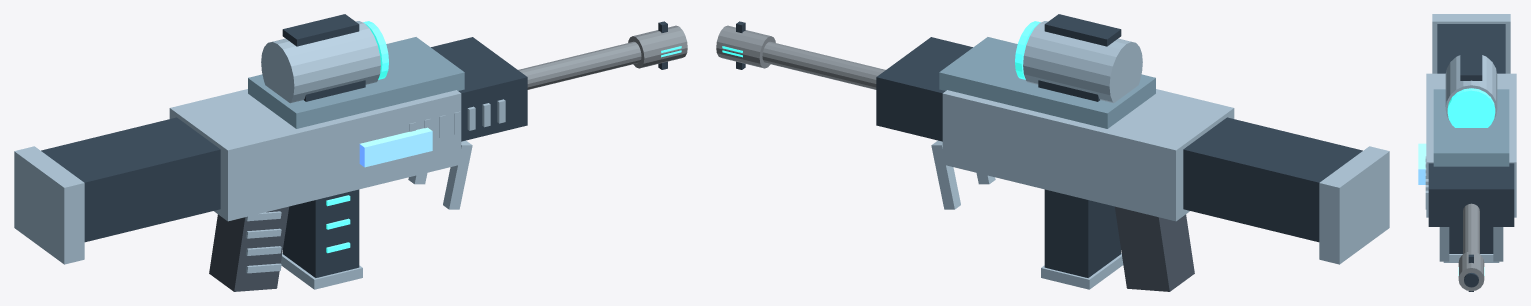
Rendered from dmr.glb.
3 views of the same model, side by side, from view 1: azimuth 30°, elevation 25°; view 2: azimuth 150°, elevation 25°; view 3: azimuth 270°, elevation 25° (orthographic). The views are drawn at different scales.
Parts seen in each view (by area): view 1: DMR_Receiver, DMR_Stock, DMR_Receiver_Cover, Stock_Plate, DMR_Optic_tube, Precision_Handguard, MAGAZINE, DMR_Grip, Precision_Barrel, Receiver_Energy, Precision_Muzzle, DMR_Optic_rail (+4 smaller); view 2: DMR_Receiver, DMR_Stock, DMR_Receiver_Cover, Stock_Plate, DMR_Optic_tube, Precision_Handguard, MAGAZINE, DMR_Grip, Precision_Barrel, Precision_Muzzle, DMR_Optic_rail, Bipod_Left (+3 smaller); view 3: Precision_Handguard, DMR_Receiver_Cover, DMR_Stock, DMR_Receiver, DMR_Optic_ring, DMR_Optic_tube, Stock_Plate, Precision_Barrel, MAGAZINE, Precision_Muzzle, DMR_Optic_rail, Bipod_Left (+5 smaller).
Part boxes in pixels (x1=…): DMR_Receiver: x1=169, y1=89, x2=461, y2=221; DMR_Stock: x1=41, y1=117, x2=220, y2=242; DMR_Receiver_Cover: x1=248, y1=37, x2=464, y2=128; Stock_Plate: x1=14, y1=146, x2=84, y2=264; DMR_Optic_tube: x1=261, y1=21, x2=380, y2=103; Precision_Handguard: x1=431, y1=37, x2=527, y2=141; MAGAZINE: x1=283, y1=189, x2=359, y2=277; DMR_Grip: x1=209, y1=206, x2=288, y2=291; Precision_Barrel: x1=518, y1=41, x2=641, y2=89; Receiver_Energy: x1=359, y1=127, x2=432, y2=167; Precision_Muzzle: x1=628, y1=25, x2=687, y2=68; DMR_Optic_rail: x1=282, y1=14, x2=359, y2=46; DMR_Receiver: x1=942, y1=89, x2=1234, y2=221; DMR_Stock: x1=1183, y1=117, x2=1362, y2=242; DMR_Receiver_Cover: x1=939, y1=37, x2=1155, y2=128; Stock_Plate: x1=1319, y1=146, x2=1389, y2=264; DMR_Optic_tube: x1=1023, y1=21, x2=1142, y2=103; Precision_Handguard: x1=876, y1=37, x2=972, y2=141; MAGAZINE: x1=1044, y1=189, x2=1120, y2=277; DMR_Grip: x1=1115, y1=206, x2=1194, y2=291; Precision_Barrel: x1=762, y1=41, x2=885, y2=89; Precision_Muzzle: x1=716, y1=25, x2=775, y2=68; DMR_Optic_rail: x1=1044, y1=14, x2=1121, y2=46; Bipod_Left: x1=931, y1=140, x2=960, y2=209; Precision_Handguard: x1=1428, y1=163, x2=1514, y2=226; DMR_Receiver_Cover: x1=1433, y1=89, x2=1509, y2=166; DMR_Stock: x1=1437, y1=24, x2=1505, y2=73; DMR_Receiver: x1=1426, y1=73, x2=1516, y2=217; DMR_Optic_ring: x1=1447, y1=88, x2=1495, y2=127; DMR_Optic_tube: x1=1445, y1=55, x2=1497, y2=122; Stock_Plate: x1=1432, y1=14, x2=1510, y2=73; Precision_Barrel: x1=1463, y1=203, x2=1479, y2=253; MAGAZINE: x1=1449, y1=227, x2=1493, y2=253; Precision_Muzzle: x1=1458, y1=251, x2=1484, y2=291; DMR_Optic_rail: x1=1460, y1=51, x2=1482, y2=80; Bipod_Left: x1=1493, y1=227, x2=1503, y2=261.
Size of the model in its own units: 2.37 by 0.8588 by 0.4025.
